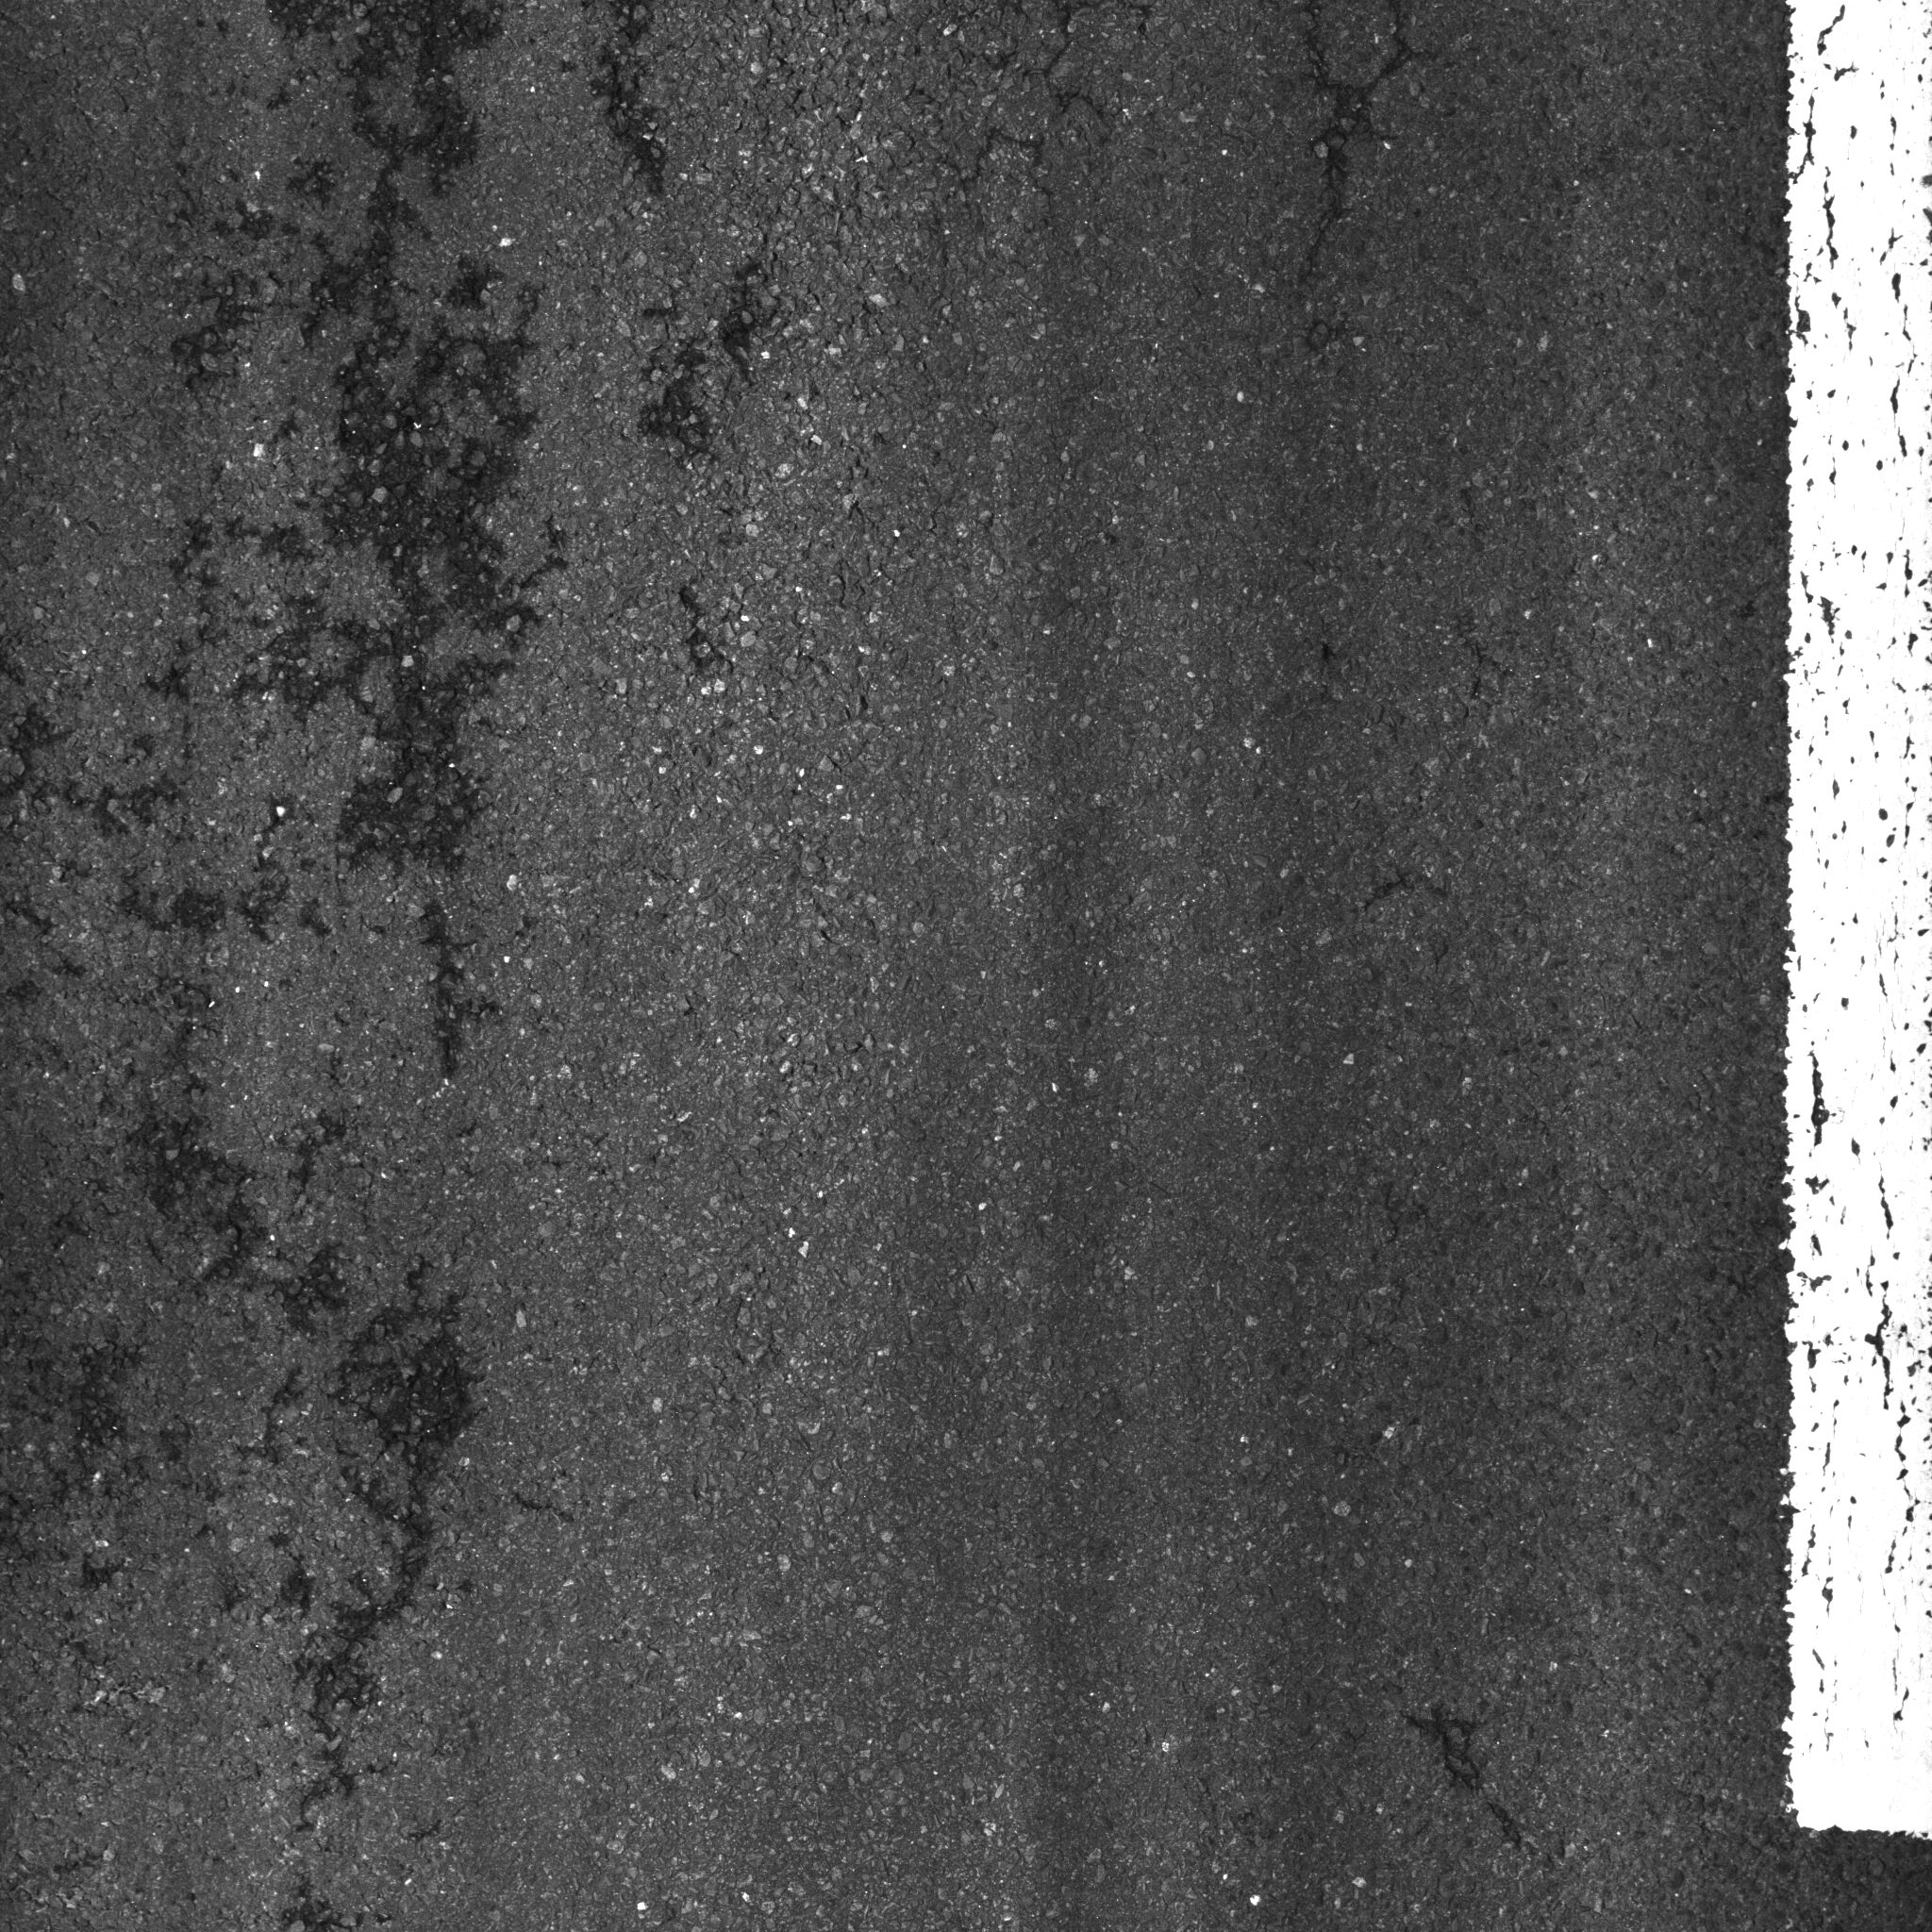alligator: (842, 2, 1566, 315)
